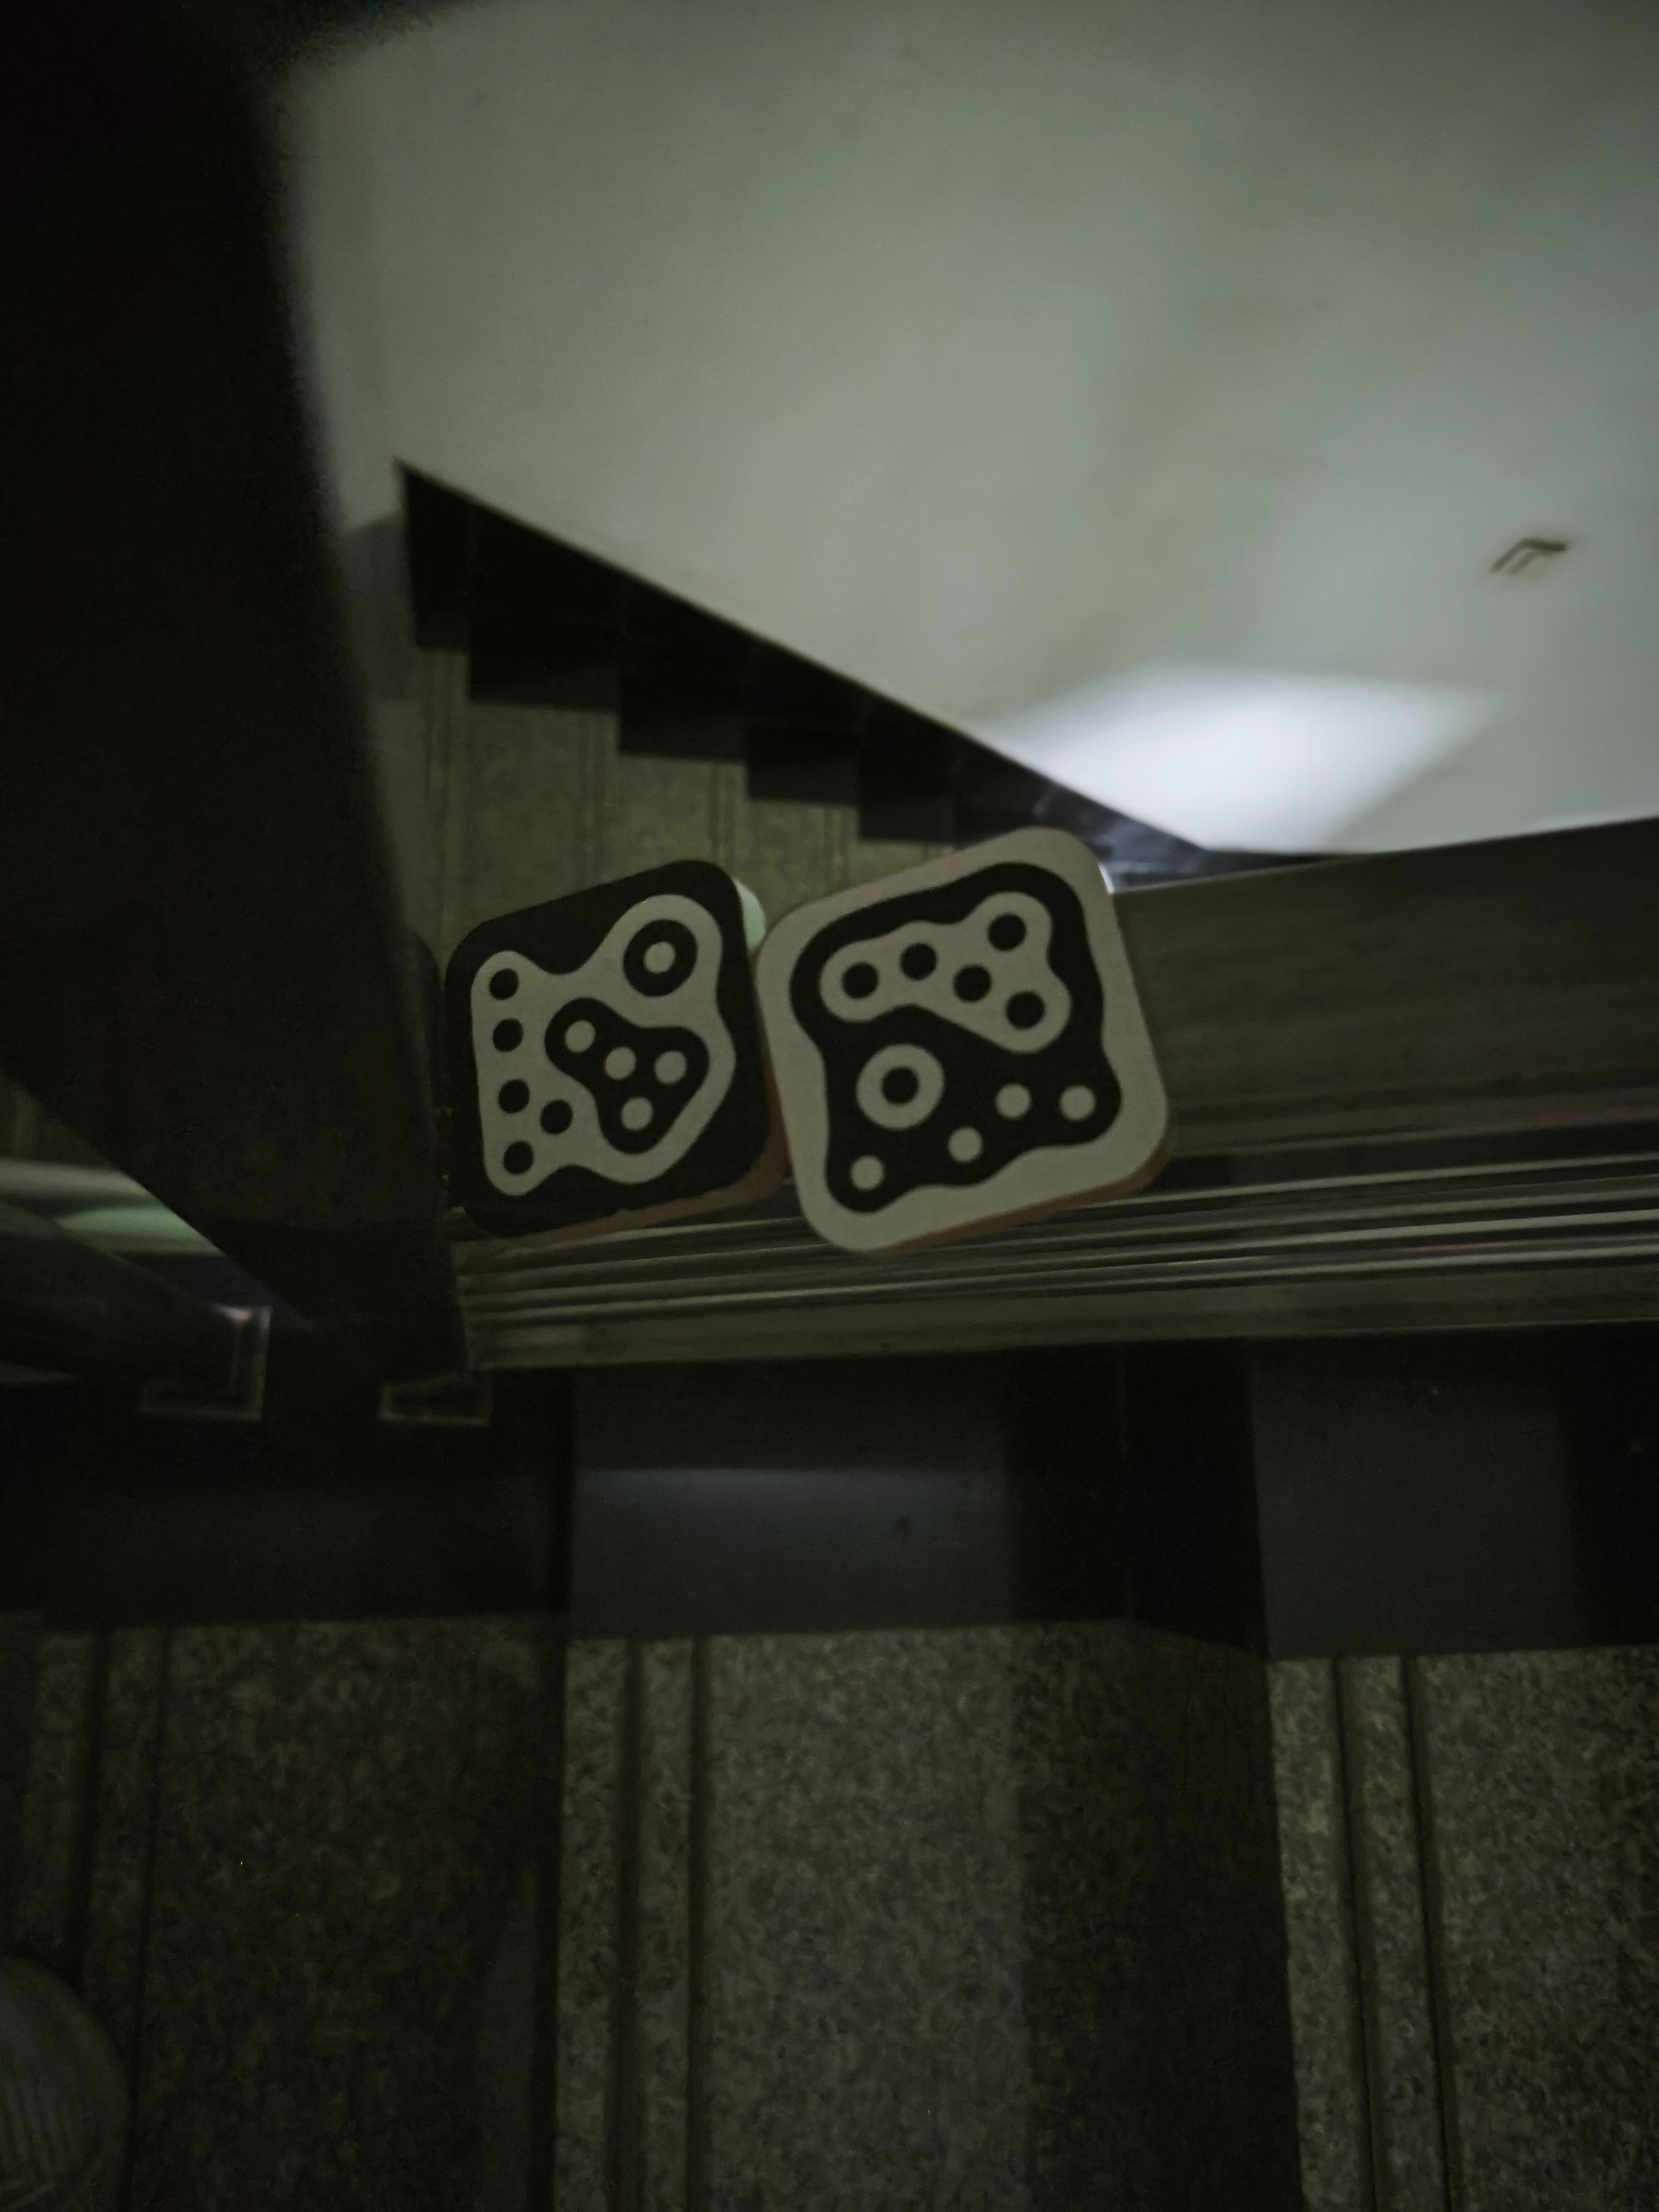mark1: (777, 855, 1129, 1219)
mark2: (462, 887, 741, 1195)
